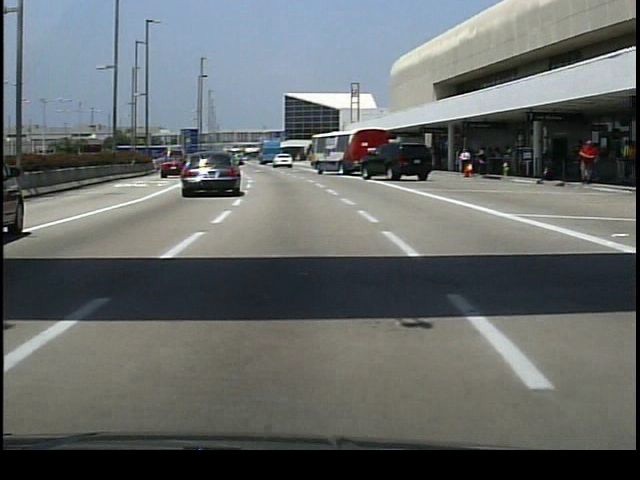person: (575, 138, 602, 187), (458, 147, 474, 181)
